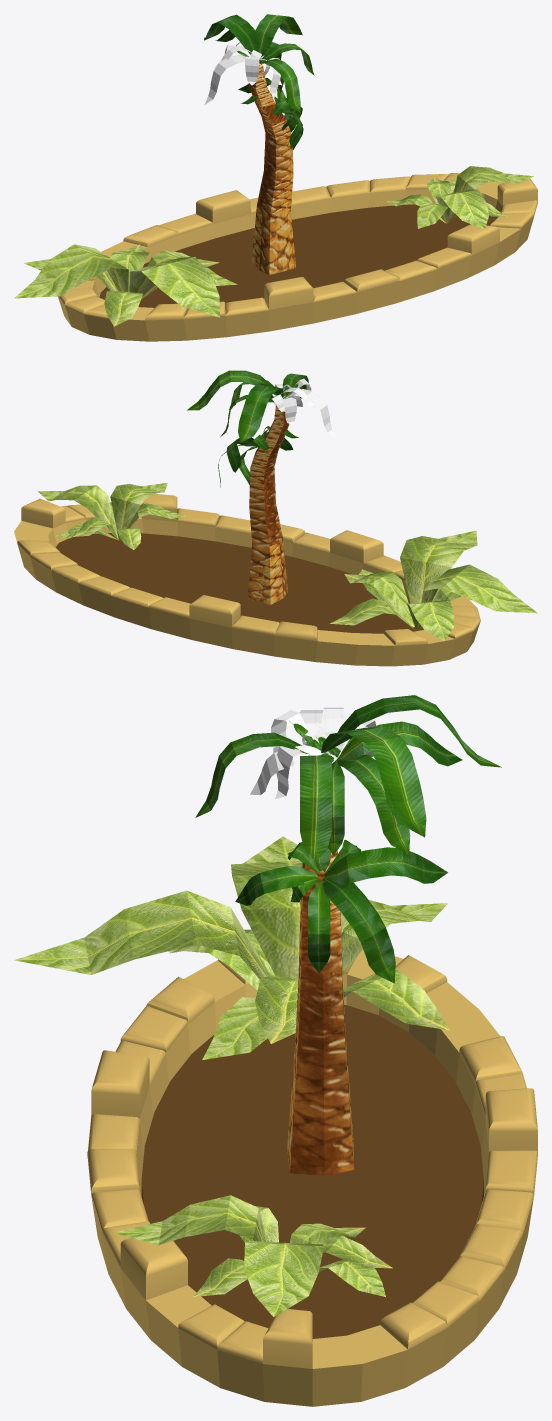
The model's file is green1.fbx.
The picture shows the model from 3 angles, top to bottom: view 1: azimuth 30°, elevation 25°; view 2: azimuth 150°, elevation 25°; view 3: azimuth 270°, elevation 25°; orthographic projection. The views are drawn at different scales.
Parts seen in each view (by area): view 1: WALL, Circle, green, palma, green1; view 2: WALL, Circle, green, palma, green1; view 3: WALL, Circle, green, green1, palma.
Part boxes in pixels (x1,y1,x2,y2): WALL: (58, 173, 537, 341); Circle: (99, 204, 495, 307); green: (14, 166, 533, 326); palma: (248, 63, 295, 275); green1: (204, 14, 314, 149); WALL: (14, 494, 480, 666); Circle: (56, 533, 423, 633); green: (38, 483, 537, 640); palma: (248, 405, 289, 604); green1: (187, 370, 335, 487); WALL: (87, 949, 537, 1406); Circle: (141, 1004, 483, 1338); green: (14, 836, 449, 1317); green1: (195, 695, 501, 983); palma: (287, 751, 353, 1176).
Bounding box in the file's own units: 293 × 130 × 134.
